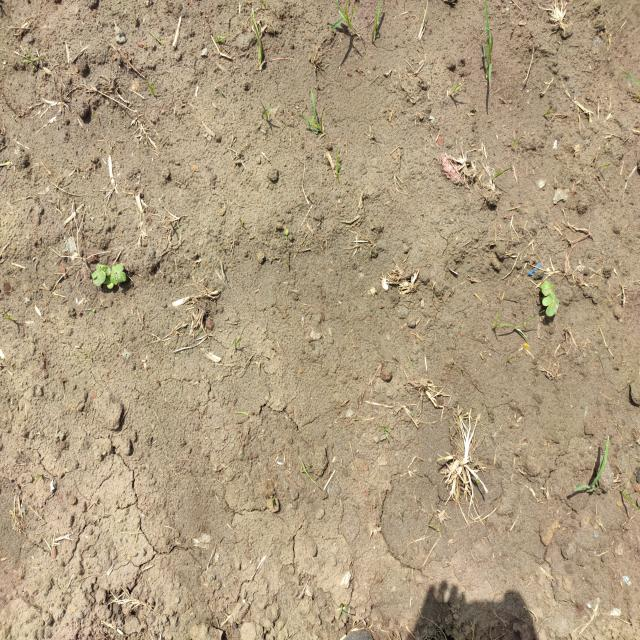seedling_s1: (546, 299, 559, 317), (110, 271, 126, 285), (93, 271, 106, 286), (542, 292, 555, 306), (111, 264, 124, 276), (544, 280, 554, 293), (541, 282, 550, 296), (92, 264, 100, 279), (100, 265, 111, 275), (107, 274, 114, 289)
